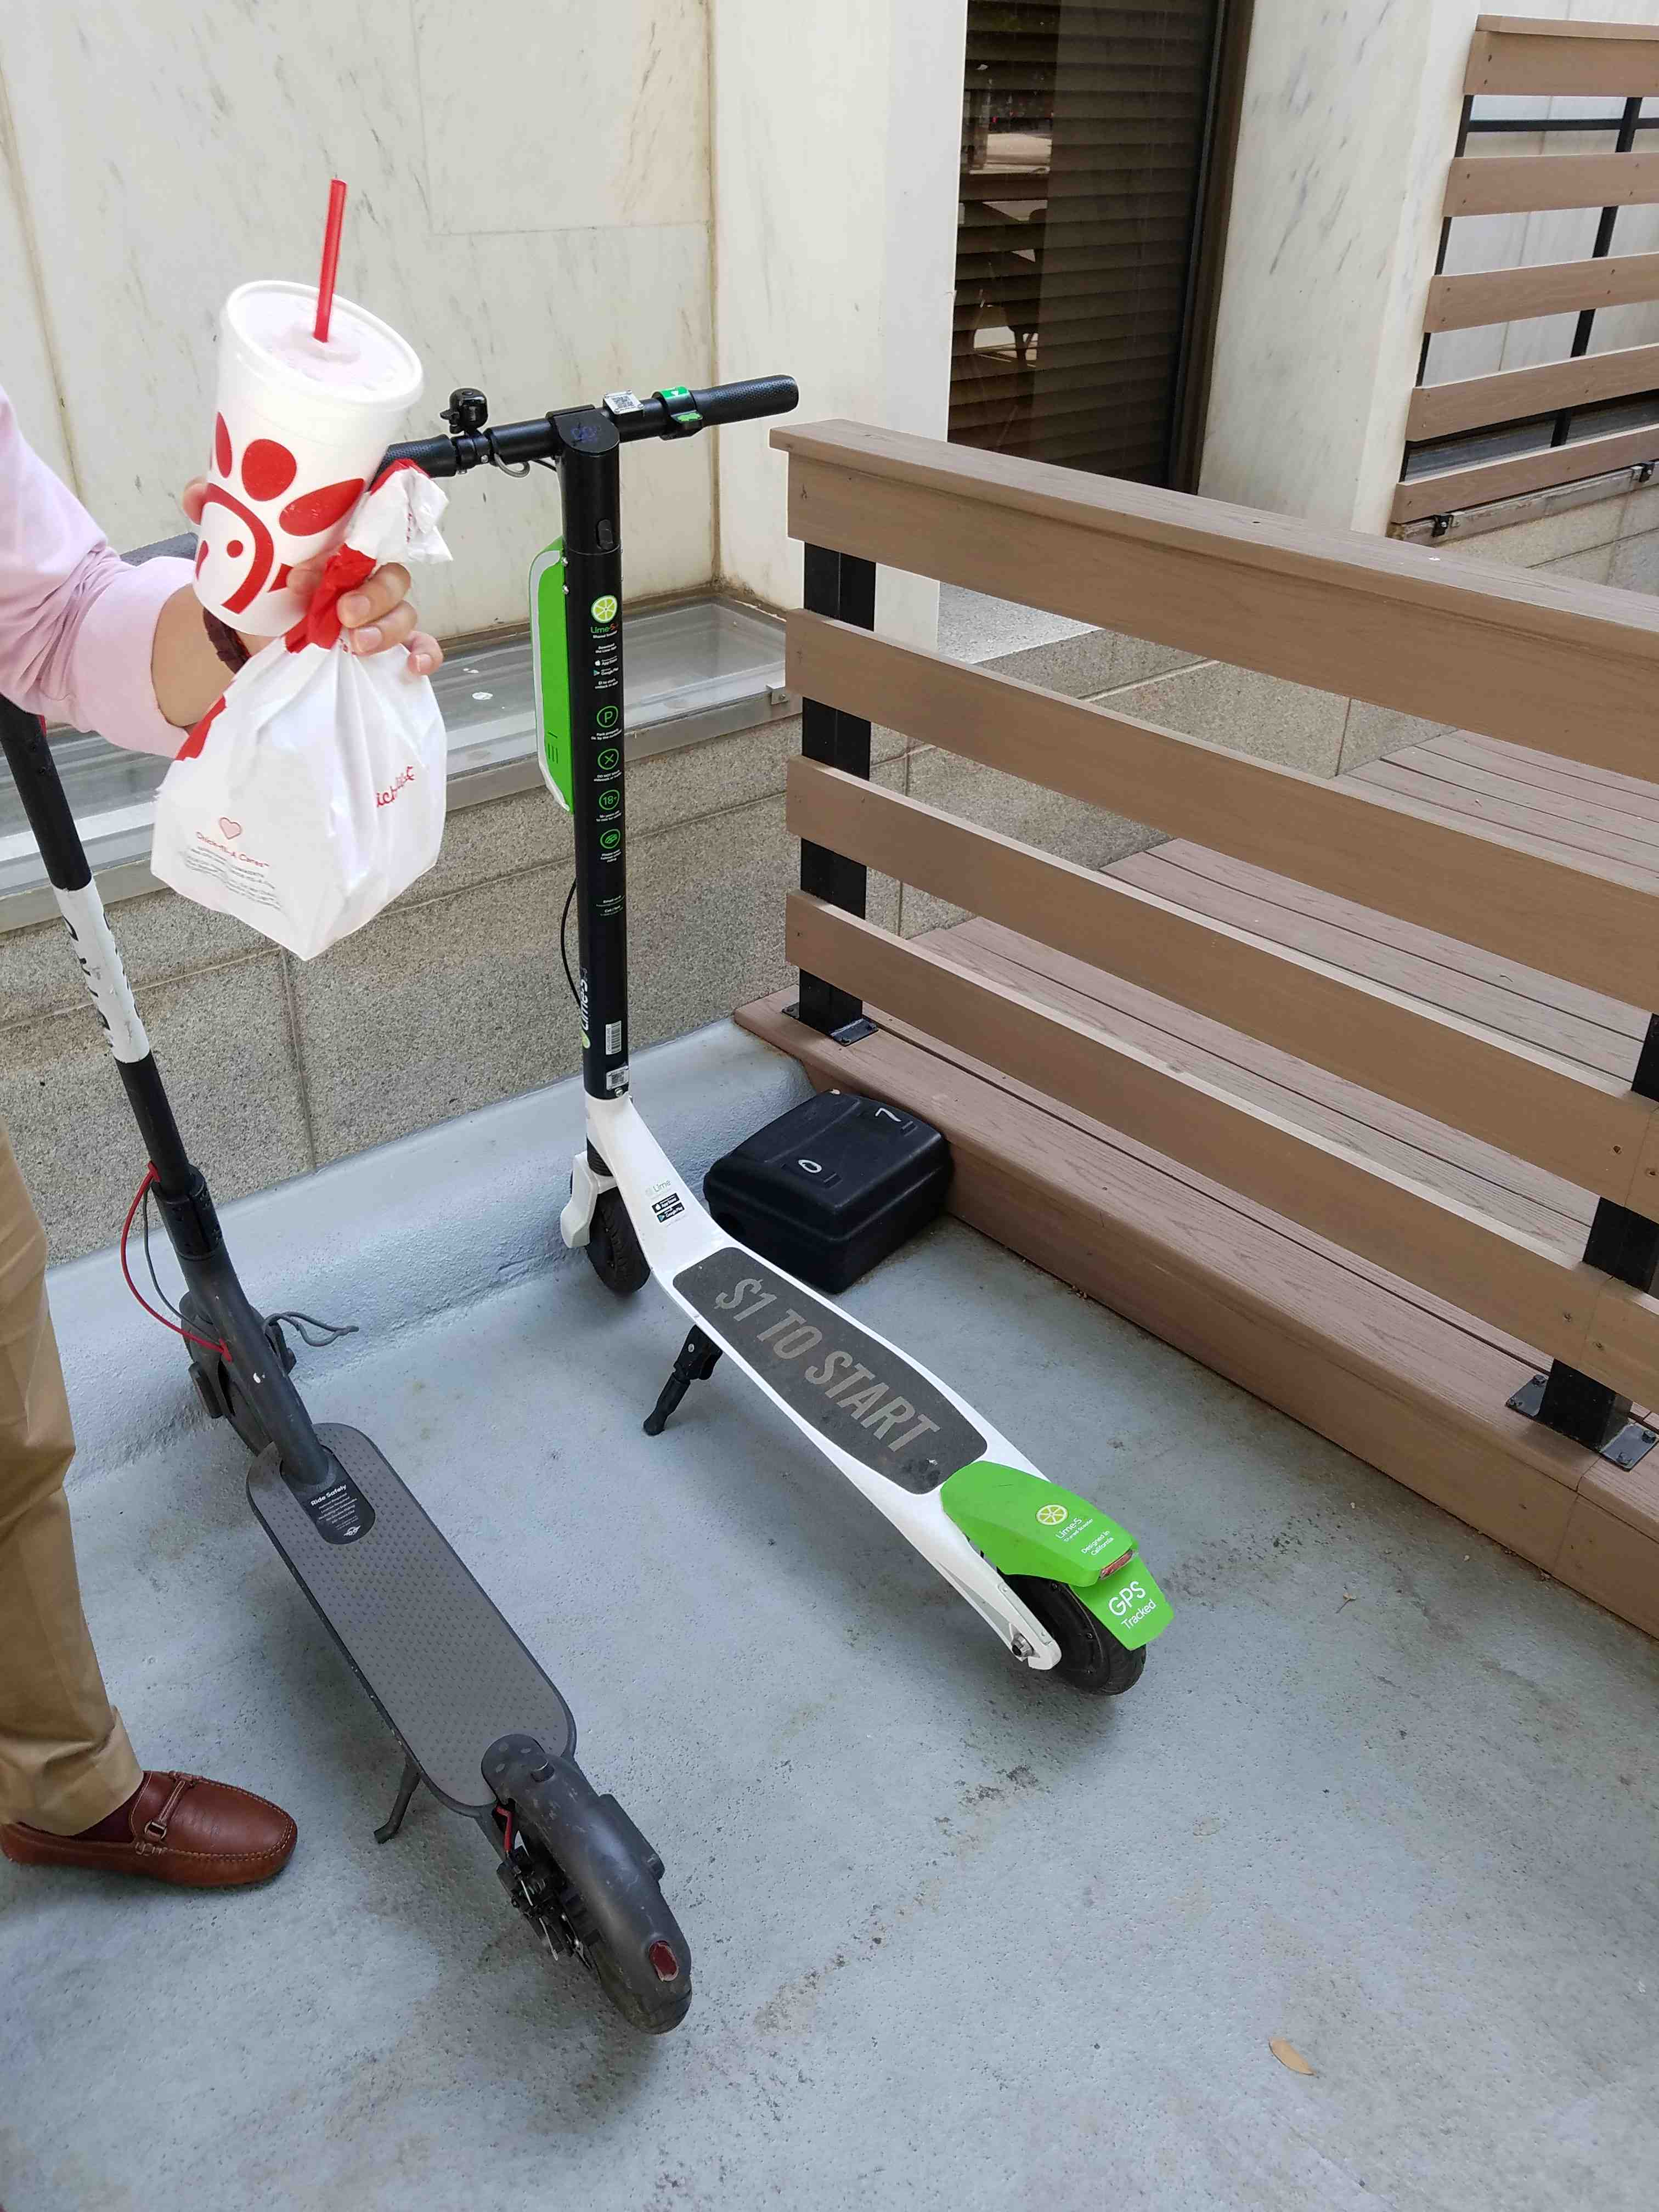scooter: (307, 336, 1209, 1733)
